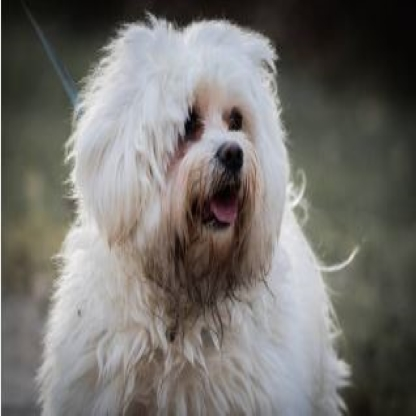maltese: (40, 10, 367, 411)
